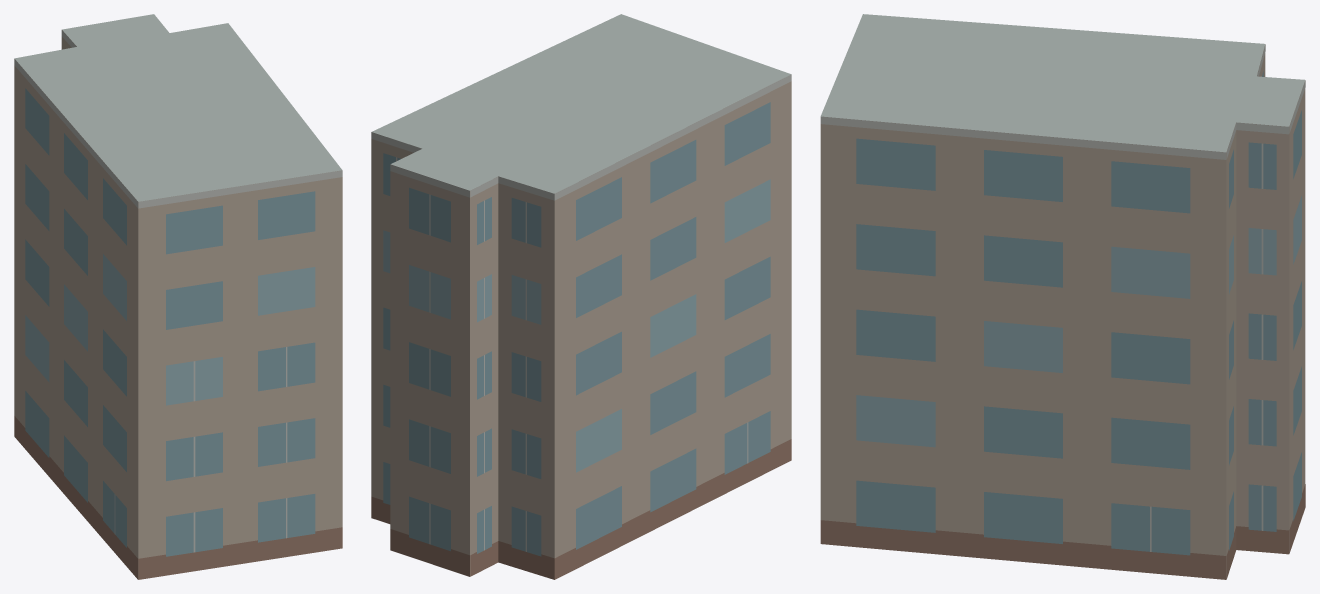
File: survey-upis-32850556.glb
3 renders of one model, left to right at view 1: azimuth 30°, elevation 25°; view 2: azimuth 150°, elevation 25°; view 3: azimuth 270°, elevation 25°, orthographic. The views are drawn at different scales.
Visible parts, largest first — view 1: survey-upis-32850556.tmp; view 2: survey-upis-32850556.tmp; view 3: survey-upis-32850556.tmp.
Boxes of the visible parts, box(x1,y1,x2,y2) form: survey-upis-32850556.tmp: box(14, 14, 342, 579); survey-upis-32850556.tmp: box(371, 14, 791, 579); survey-upis-32850556.tmp: box(820, 14, 1305, 579).
Bounding box in the file's own units: 9.52 × 13.7 × 14.1.
